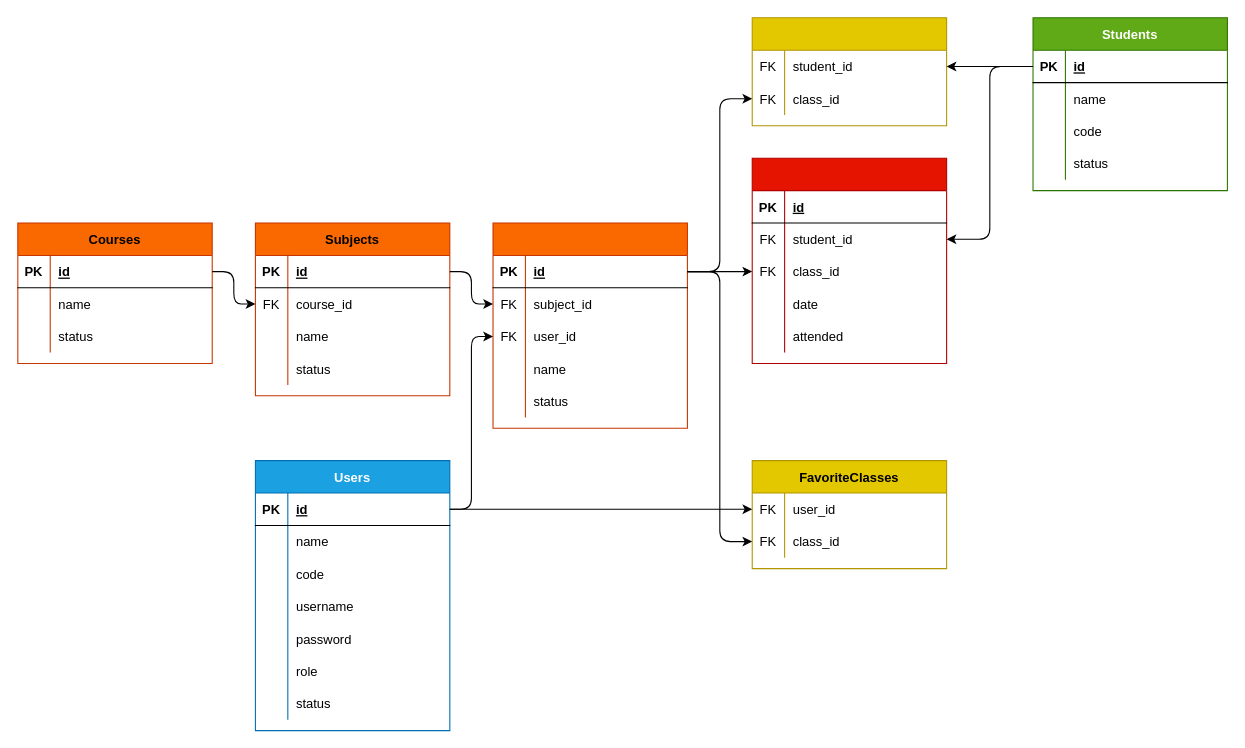
This 1245x748 diagram has some shape labels left out. Each missing label, with the box of its shape:
Attendances: (751, 157, 947, 363)
Class: (492, 222, 687, 428)
ClassStudents: (751, 17, 947, 126)
